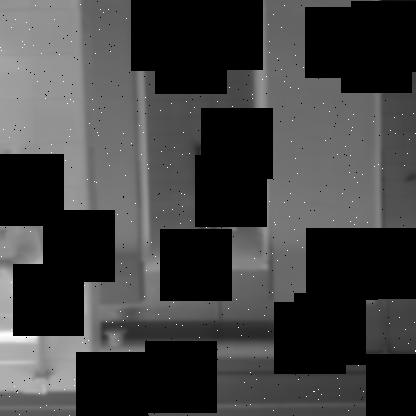Porte: (129, 0, 272, 265)
